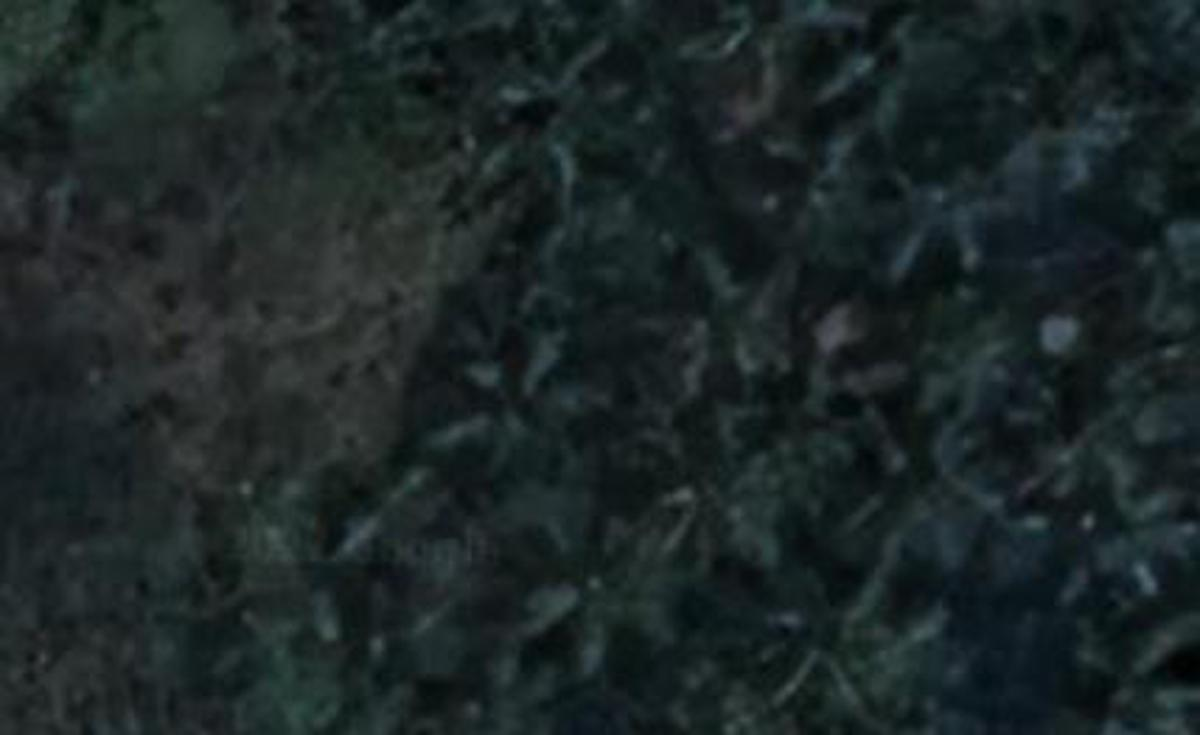coconut: (213, 482, 406, 653), (465, 30, 642, 210), (417, 319, 591, 499), (737, 547, 916, 712), (647, 221, 804, 392), (501, 510, 664, 659), (765, 322, 916, 474), (998, 353, 1141, 510), (863, 137, 1006, 286), (984, 50, 1132, 190), (841, 412, 984, 555), (1042, 474, 1185, 608), (642, 429, 782, 563), (801, 2, 930, 129), (751, 123, 874, 252), (487, 204, 605, 322), (1082, 263, 1197, 381)
